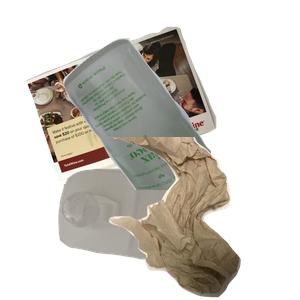glass: (60, 36, 300, 216)
paper: (23, 24, 232, 199)
plastic: (56, 166, 241, 300)
trash: (103, 137, 300, 300)
